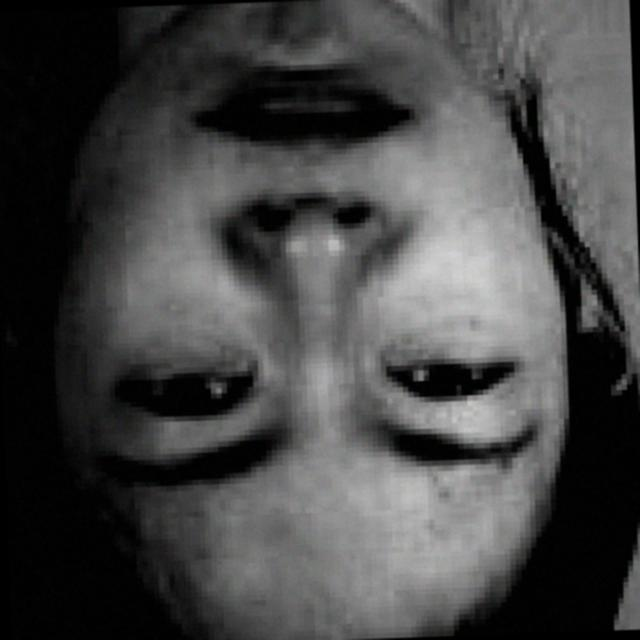disgust: (68, 0, 578, 599)
